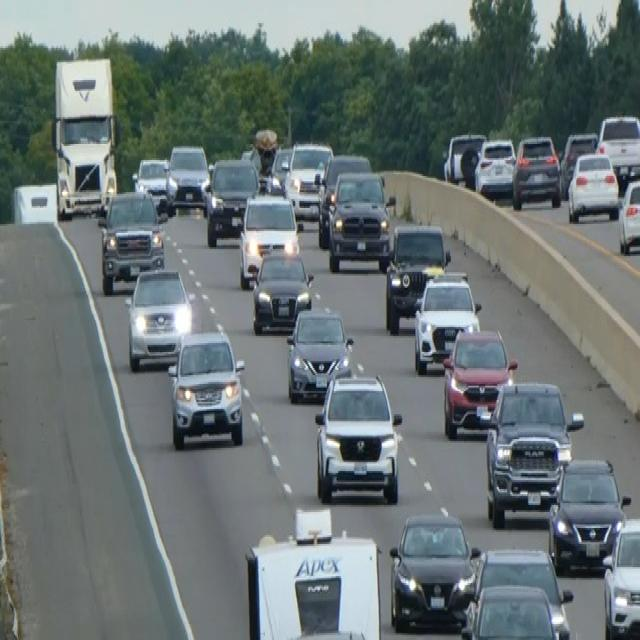car: (484, 379, 583, 528), (314, 371, 402, 505), (388, 510, 480, 631), (547, 455, 630, 573), (166, 327, 245, 450), (441, 325, 517, 439), (384, 220, 450, 334), (412, 268, 481, 374), (97, 187, 166, 293), (124, 265, 192, 370), (327, 169, 395, 272), (285, 304, 354, 404), (238, 190, 300, 288), (460, 582, 563, 638), (251, 246, 313, 334), (317, 151, 372, 247), (203, 155, 259, 245), (601, 514, 639, 638), (284, 139, 333, 222), (511, 133, 561, 210), (567, 150, 619, 222), (595, 112, 639, 183), (132, 156, 177, 217), (168, 142, 209, 208), (473, 135, 516, 197), (559, 130, 598, 196), (442, 130, 486, 183), (617, 174, 639, 254), (269, 144, 292, 192)
lorry: (50, 55, 120, 219)
